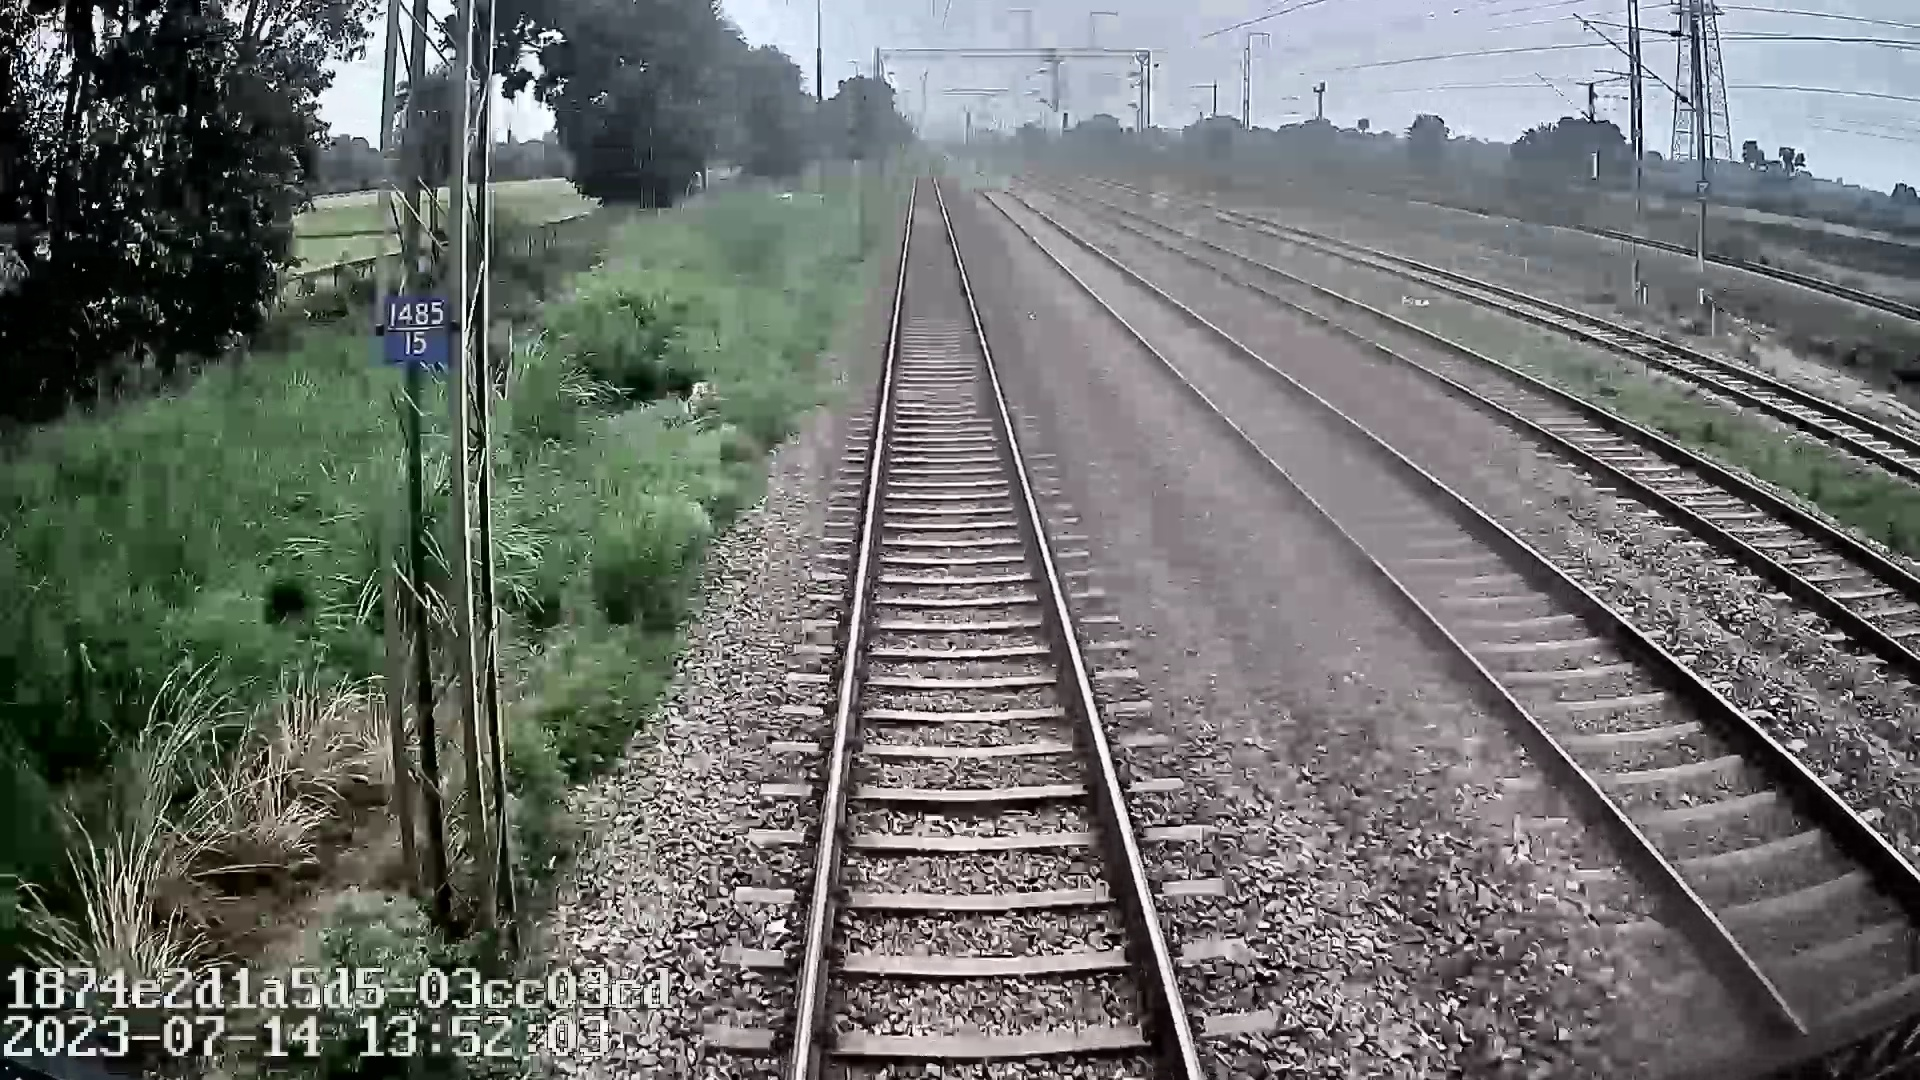track1: (803, 210, 1188, 1052)
track2: (1003, 206, 1913, 996)
track3: (1178, 245, 1919, 640)
track4: (1323, 245, 1917, 468)
